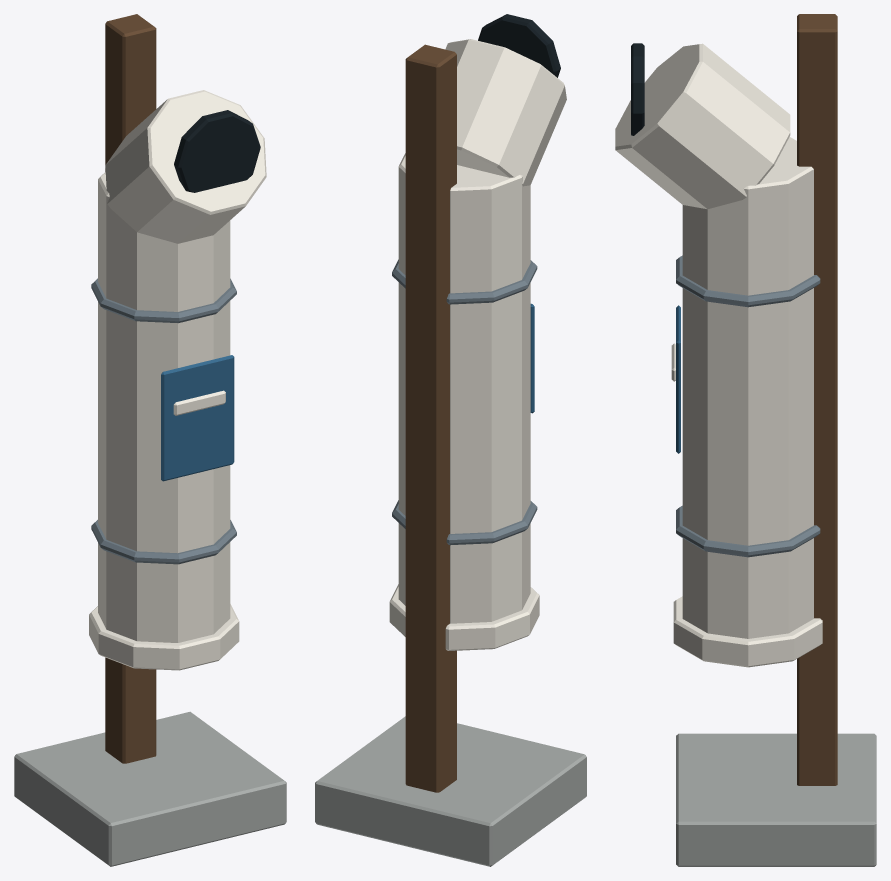
Rendered from b20_fishing_line_recycling_tube.glb.
The picture shows the model from 3 angles, left to right: view 1: azimuth 30°, elevation 25°; view 2: azimuth 150°, elevation 25°; view 3: azimuth 270°, elevation 25°; orthographic projection. The views are drawn at different scales.
Visible parts, largest first — view 1: b20_fishing_line_recycling_tube; view 2: b20_fishing_line_recycling_tube; view 3: b20_fishing_line_recycling_tube.
Boxes of the visible parts, left/top/right/bottom form: b20_fishing_line_recycling_tube: left=14, top=14, right=286, bottom=866; b20_fishing_line_recycling_tube: left=315, top=14, right=586, bottom=866; b20_fishing_line_recycling_tube: left=615, top=14, right=876, bottom=866.
Bounding box in the file's own units: 0.34 × 1.41 × 0.4172.
